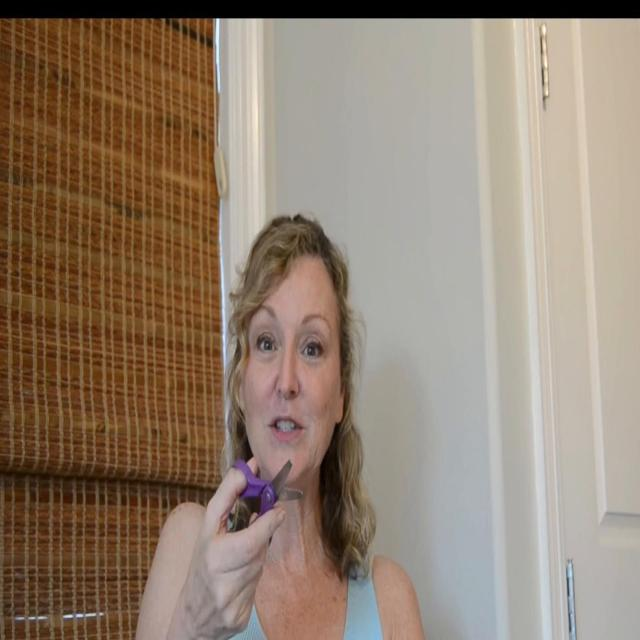scissor: (233, 460, 303, 545)
